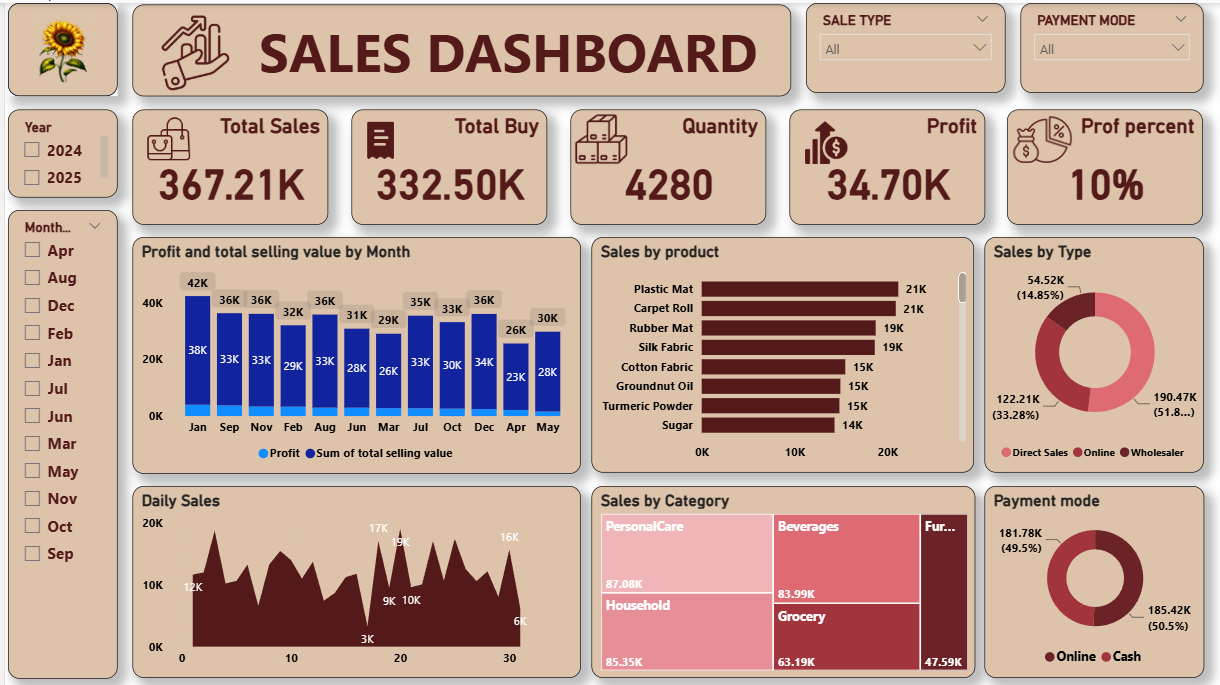

Layout of this report page (visuals, bound fields, positions):
{"tool":"powerbi","page":{"name":"Page 1","canvas":[1280,720],"ordinal":0},"visuals":[{"type":"shape","box":[3.8,0,115.3,98.3],"z":0},{"type":"image","box":[3.8,0,115.3,98.3],"z":1000},{"type":"textbox","box":[134.2,1.9,693.5,96.4],"z":2000},{"type":"slicer","fields":{"Values":["InputData.Year"]},"box":[3.8,111.5,115.3,92.6],"z":3000},{"type":"slicer","fields":{"Values":["InputData.Month Name"]},"box":[3.8,217.3,115.3,493.2],"z":4000},{"type":"slicer","fields":{"Values":["InputData.SALE TYPE"]},"box":[842.8,0,209.8,94.5],"z":5000},{"type":"slicer","fields":{"Values":["InputData.PAYMENT MODE"]},"box":[1069.6,0,192.8,94.5],"z":6000},{"type":"image","box":[147.4,7.6,115.3,88.8],"z":7000},{"type":"card","title":"Total Sales","fields":{"Values":["Sum(InputData.total selling value)"]},"box":[134.8,112.1,205.9,121.1],"z":8000},{"type":"card","title":"Prof percent","fields":{"Values":["InputData.Profit %"]},"box":[1055.4,112.1,205.9,121.1],"z":9000},{"type":"card","title":"Profit","fields":{"Values":["InputData.Profit"]},"box":[825.2,112.1,205.9,121.1],"z":10000},{"type":"card","title":"Quantity","fields":{"Values":["Sum(InputData.QUANTITY)"]},"box":[595.1,112.1,205.9,121.1],"z":11000},{"type":"card","title":"Total Buy","fields":{"Values":["Sum(InputData.Total buying value)"]},"box":[364.9,112.1,205.9,121.1],"z":12000},{"type":"image","box":[142.1,102.6,60,80.5],"z":13000},{"type":"image","box":[366.3,116.8,58.4,55.3],"z":14000},{"type":"image","box":[836.9,112.1,55.3,69.5],"z":15000},{"type":"image","box":[1046.9,105.8,90,75.8],"z":16000},{"type":"image","box":[593.7,110.5,67.9,64.7],"z":17000},{"type":"columnChart","title":"Profit and total selling value by Month","fields":{"Category":["InputData.Month Name"],"Y":["InputData.Profit","Sum(InputData.total selling value)"]},"box":[134.2,246.3,472.1,249.5],"z":18000},{"type":"areaChart","title":"Daily Sales","fields":{"Category":["InputData.Day"],"Y":["Sum(InputData.total selling value)"]},"box":[134.2,508.4,472.1,202.1],"z":18001},{"type":"clusteredBarChart","title":"Sales by product","fields":{"Category":["InputData.MasterData.PRODUCT"],"Y":["Sum(InputData.total selling value)"]},"box":[617.4,246.3,402.6,247.9],"z":18002},{"type":"treemap","title":"Sales by Category","fields":{"Group":["InputData.MasterData.CATEGORY"],"Values":["Sum(InputData.total selling value)"]},"box":[617.4,508.4,404.2,202.1],"z":18003},{"type":"donutChart","title":"Sales by Type","fields":{"Category":["InputData.SALE TYPE"],"Y":["Sum(InputData.total selling value)"]},"box":[1031.1,246.3,230.5,247.9],"z":18004},{"type":"donutChart","title":"Payment mode","fields":{"Category":["InputData.PAYMENT MODE"],"Y":["Sum(InputData.total selling value)"]},"box":[1031,508,231,202],"z":18005}]}

Visuals, with their boxes in screenshot pixels (x1, y1, x2, y2), scaled from the page's 1280x720 canvas onto the 1220x685 screenshot:
shape: detection(4, 0, 114, 94)
image: detection(4, 0, 114, 94)
textbox: detection(128, 2, 789, 94)
slicer - InputData.Year: detection(4, 106, 114, 194)
slicer - InputData.Month Name: detection(4, 207, 114, 676)
slicer - InputData.SALE TYPE: detection(803, 0, 1003, 90)
slicer - InputData.PAYMENT MODE: detection(1019, 0, 1203, 90)
image: detection(140, 7, 250, 92)
"Total Sales" card: detection(128, 107, 325, 222)
"Prof percent" card: detection(1006, 107, 1202, 222)
"Profit" card: detection(787, 107, 983, 222)
"Quantity" card: detection(567, 107, 763, 222)
"Total Buy" card: detection(348, 107, 544, 222)
image: detection(135, 98, 193, 174)
image: detection(349, 111, 405, 164)
image: detection(798, 107, 850, 173)
image: detection(998, 101, 1084, 173)
image: detection(566, 105, 631, 167)
"Profit and total selling value by Month" columnChart: detection(128, 234, 578, 472)
"Daily Sales" areaChart: detection(128, 484, 578, 676)
"Sales by product" clusteredBarChart: detection(588, 234, 972, 470)
"Sales by Category" treemap: detection(588, 484, 974, 676)
"Sales by Type" donutChart: detection(983, 234, 1202, 470)
"Payment mode" donutChart: detection(983, 483, 1203, 675)
